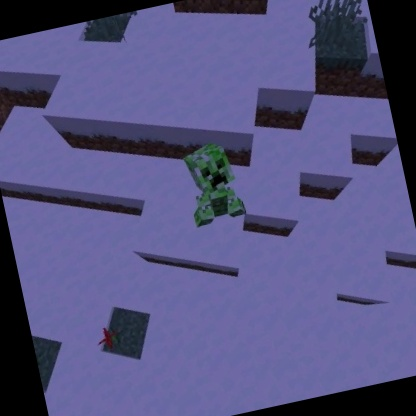creeper: (177, 136, 250, 232)
